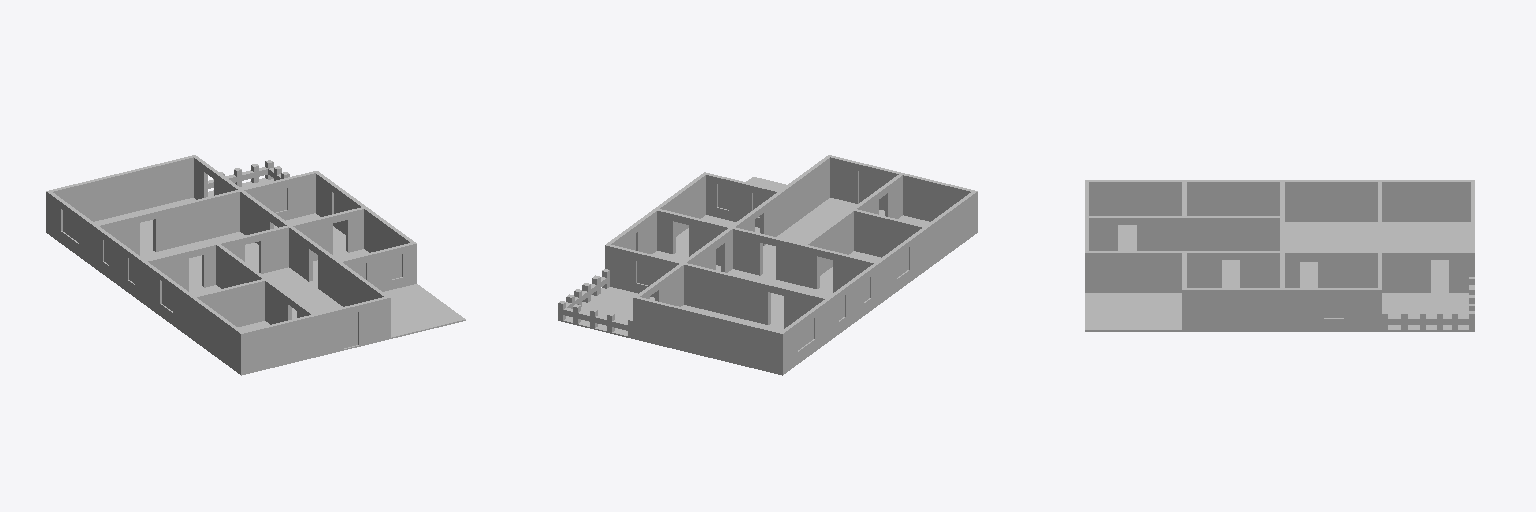
The model's file is Room1.obj.
3 views of the same model, side by side, from view 1: azimuth 30°, elevation 25°; view 2: azimuth 150°, elevation 25°; view 3: azimuth 270°, elevation 25° (orthographic).
Parts seen in each view (by area): view 1: object 1; view 2: object 1; view 3: object 1.
Part boxes in pixels (bbox=[...]): object 1: bbox=[46, 155, 465, 375]; object 1: bbox=[558, 155, 977, 375]; object 1: bbox=[1085, 180, 1474, 331].
Bounding box in the file's own units: 17 × 3 × 25.6.